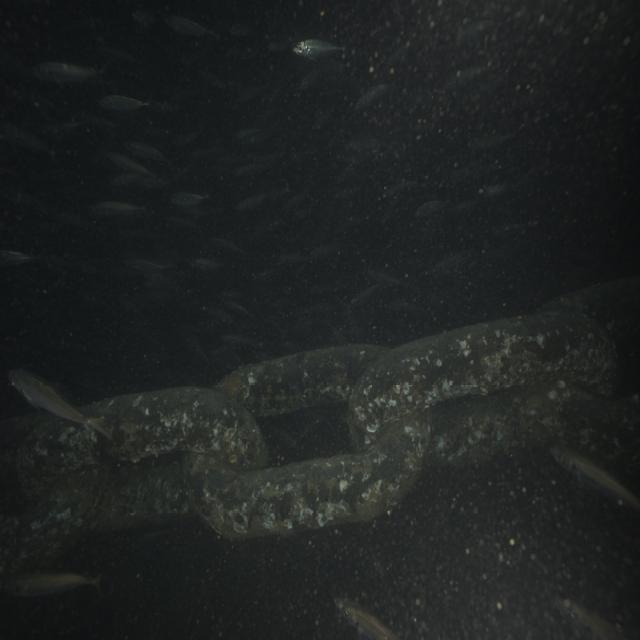ChainLink: (349, 309, 615, 444), (191, 412, 430, 538), (18, 388, 268, 494), (425, 379, 579, 464), (215, 344, 386, 417), (542, 275, 640, 394), (540, 398, 640, 491), (96, 462, 191, 530)
